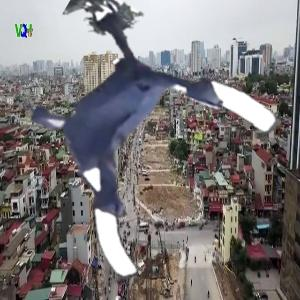drone: (7, 23, 252, 268)
